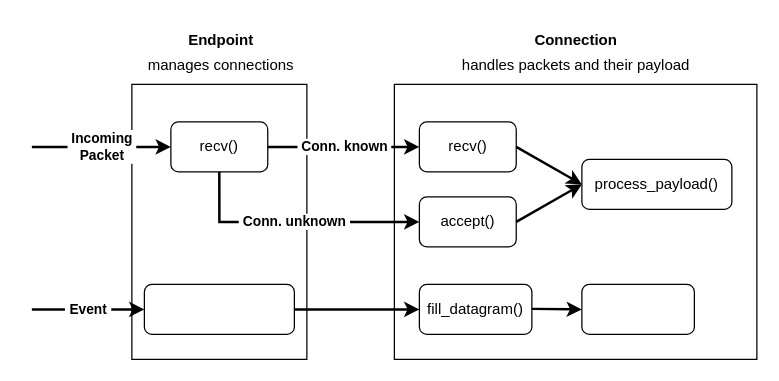
This 779x381 diagram has some shape labels left out. Each missing label, with the centre of its shape:
build_packet(): pixel 637 308
handle_connection(): pixel 218 308
